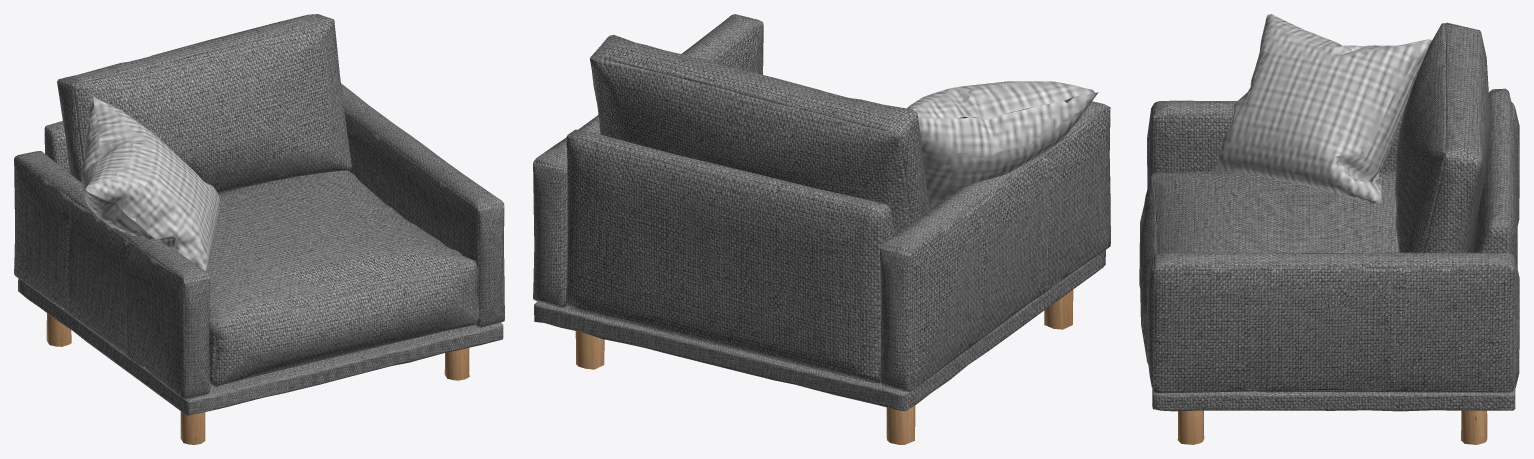
File: SM_单人沙发_80cm.gltf
3 renders of one model, left to right at view 1: azimuth 30°, elevation 25°; view 2: azimuth 150°, elevation 25°; view 3: azimuth 270°, elevation 25°, orthographic. The views are drawn at different scales.
Parts seen in each view (by area): view 1: SM_单人沙发_80cm_StaticMeshComponent0; view 2: SM_单人沙发_80cm_StaticMeshComponent0; view 3: SM_单人沙发_80cm_StaticMeshComponent0.
Boxes of the visible parts, x1,y1,x2,y2 form: SM_单人沙发_80cm_StaticMeshComponent0: [14, 14, 504, 444]; SM_单人沙发_80cm_StaticMeshComponent0: [533, 14, 1110, 444]; SM_单人沙发_80cm_StaticMeshComponent0: [1139, 14, 1519, 444].
Size of the model in its own units: 108 by 75.64 by 91.16.
Materials: 3 (3 with a texture image).
